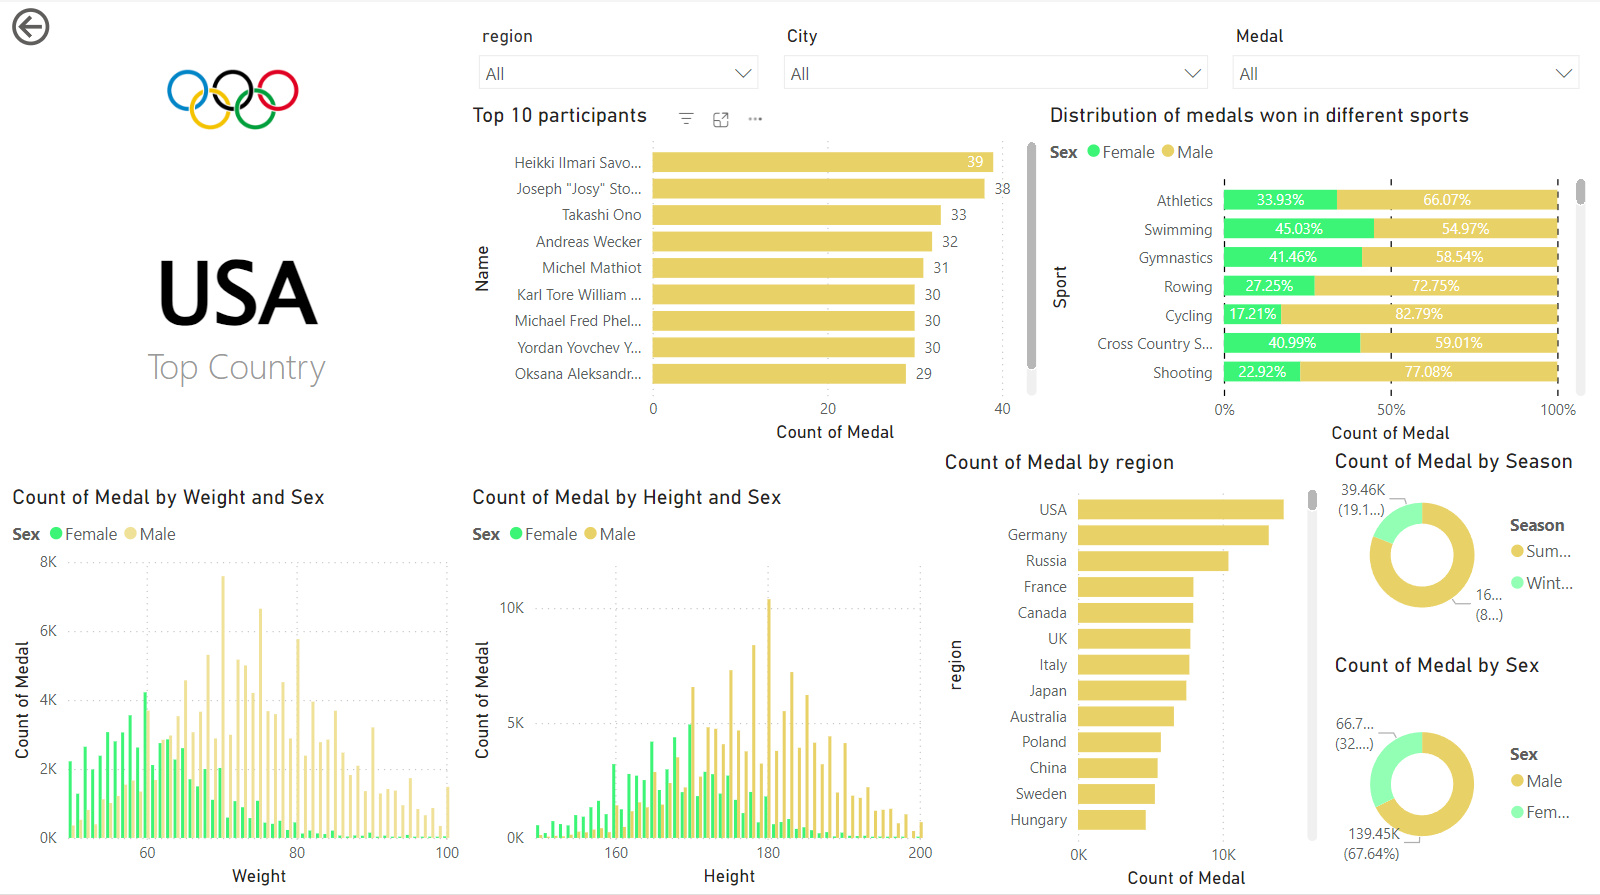

The page's visual inventory and layout, read from the dashboard file:
{"tool":"powerbi","page":{"name":"Page 1","canvas":[1280,720],"ordinal":0},"visuals":[{"type":"image","box":[99.7,25.2,165.7,109.3],"z":0},{"type":"clusteredBarChart","fields":{"Category":["athlete_events.region"],"Y":["athlete_events.Medal"]},"box":[752.9,361.4,311,359],"z":1000},{"type":"donutChart","fields":{"Y":["athlete_events.Medal"],"Category":["athlete_events.Sex"]},"box":[1067.5,524.7,212.5,194.5],"z":2000},{"type":"donutChart","fields":{"Y":["athlete_events.Medal"],"Category":["athlete_events.Season"]},"box":[1067.5,360.2,212.5,153.7],"z":3000},{"type":"hundredPercentStackedBarChart","title":"Distribution of medals won in different sports","fields":{"Category":["athlete_events.Sport"],"Series":["athlete_events.Sex"],"Y":["athlete_events.Medal"]},"box":[752.3,80.2,527.9,280.2],"z":4000},{"type":"clusteredColumnChart","fields":{"Category":["athlete_events.Weight"],"Y":["athlete_events.Medal"],"Series":["athlete_events.Sex"]},"box":[0,389,371,329],"z":5000},{"type":"clusteredColumnChart","fields":{"Y":["athlete_events.Medal"],"Category":["athlete_events.Height"],"Series":["athlete_events.Sex"]},"box":[371,389,381.8,329],"z":6000},{"type":"actionButton","box":[0,0,99.9,40],"z":7000},{"type":"barChart","title":"Top 10 participants","fields":{"Category":["athlete_events.Name"],"Y":["athlete_events.Medal"]},"box":[372.1,80.2,380.2,280.2],"z":8000},{"type":"slicer","fields":{"Values":["athlete_events.region"]},"box":[371,14.4,246.2,66],"z":9000},{"type":"slicer","fields":{"Values":["athlete_events.City"]},"box":[617.2,14.4,362.6,66],"z":10000},{"type":"slicer","fields":{"Values":["athlete_events.Medal"]},"box":[979.8,14.4,300.2,66],"z":11000},{"type":"card","fields":{"Values":["athlete_events.MaxMedalRegion"]},"box":[0,134.9,372.1,225.6],"z":12000}]}

Visuals, with their boxes in screenshot pixels (x1, y1, x2, y2), scaled from the page's 1280x720 canvas onto the 1600x895 screenshot:
image: l=125, t=31, r=332, b=167
clusteredBarChart - athlete_events.region x athlete_events.Medal: l=941, t=449, r=1330, b=894
donutChart - athlete_events.Medal x athlete_events.Sex: l=1334, t=652, r=1599, b=894
donutChart - athlete_events.Medal x athlete_events.Season: l=1334, t=448, r=1599, b=639
"Distribution of medals won in different sports" hundredPercentStackedBarChart: l=940, t=100, r=1599, b=448
clusteredColumnChart - athlete_events.Weight x athlete_events.Medal: l=0, t=484, r=464, b=893
clusteredColumnChart - athlete_events.Medal x athlete_events.Height: l=464, t=484, r=941, b=893
actionButton: l=0, t=0, r=125, b=50
"Top 10 participants" barChart: l=465, t=100, r=940, b=448
slicer - athlete_events.region: l=464, t=18, r=772, b=100
slicer - athlete_events.City: l=772, t=18, r=1225, b=100
slicer - athlete_events.Medal: l=1225, t=18, r=1599, b=100
card - athlete_events.MaxMedalRegion: l=0, t=168, r=465, b=448
